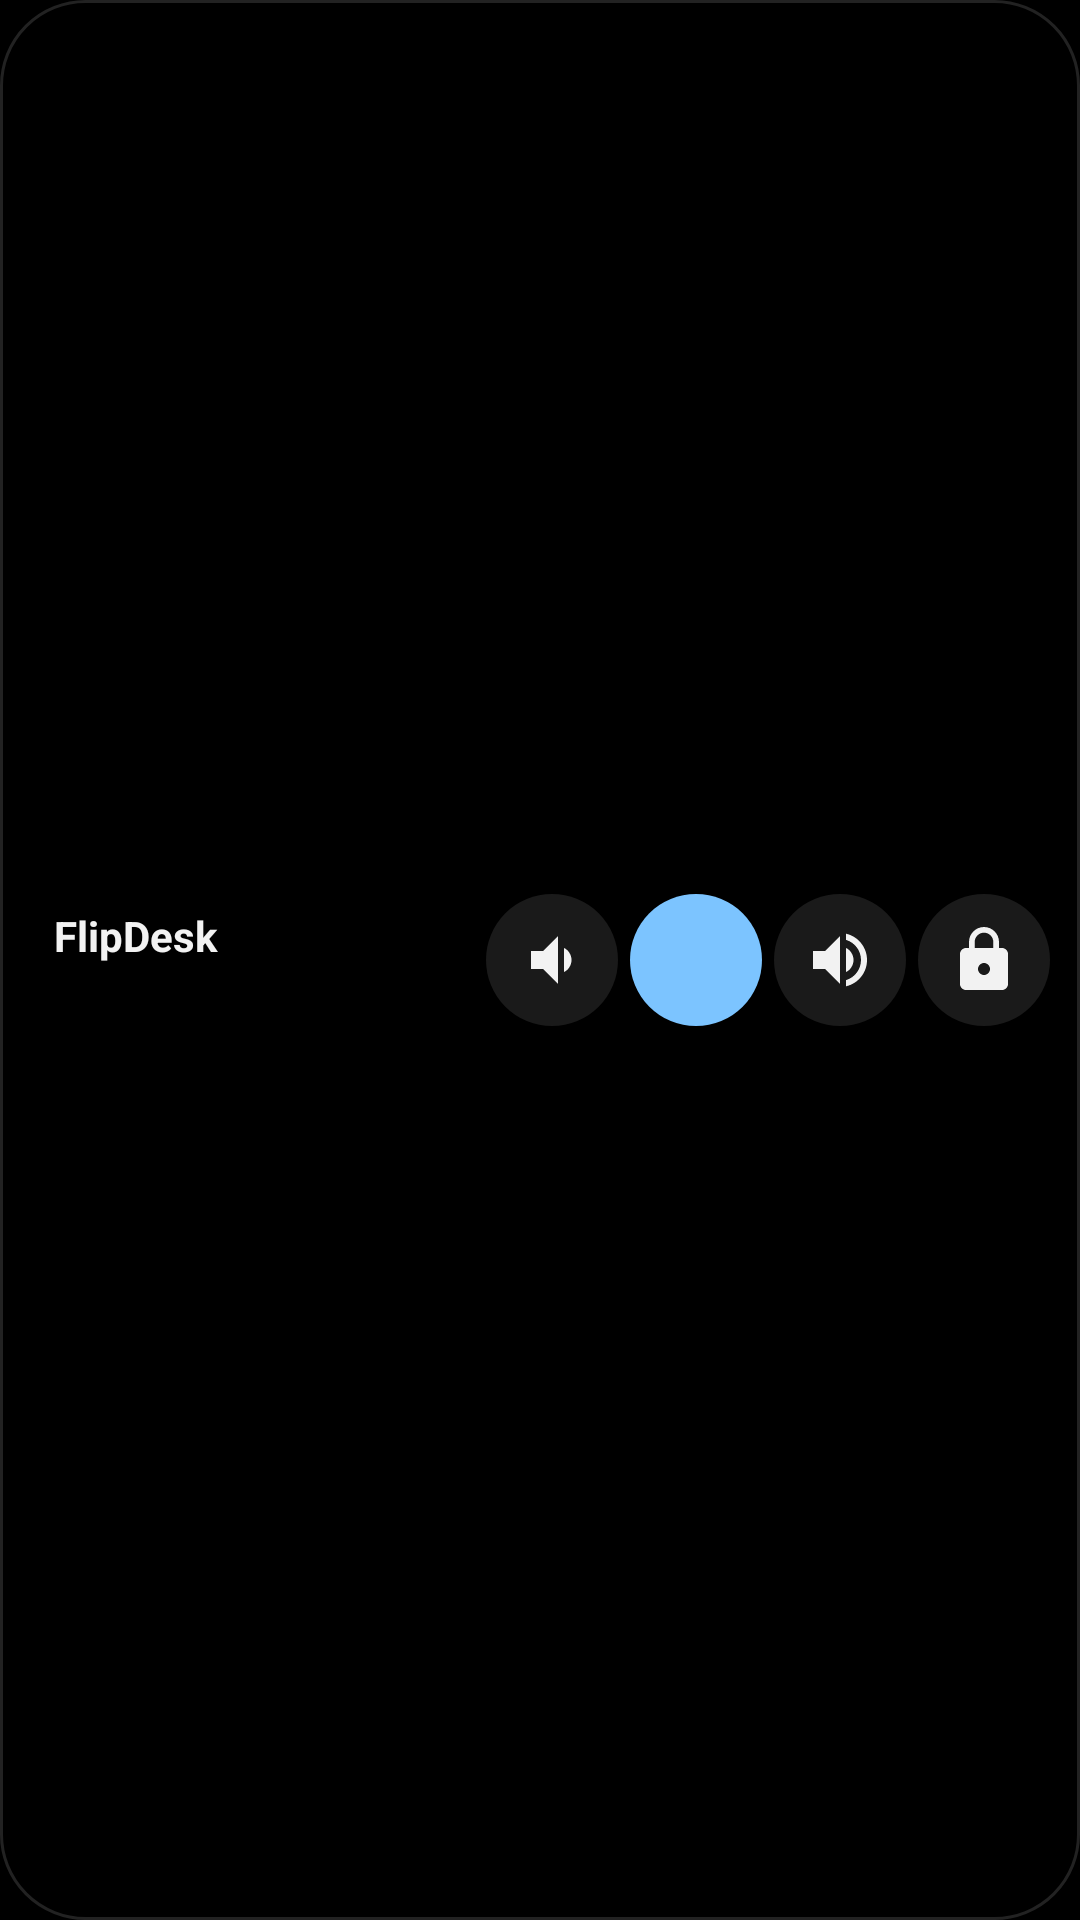

Named icons in this screenshot (1080 x 1920) and their centers, (x=x, y=y):
Lock PC: (x=984, y=960)
PC volume down: (x=552, y=960)
PC volume up: (x=840, y=960)
